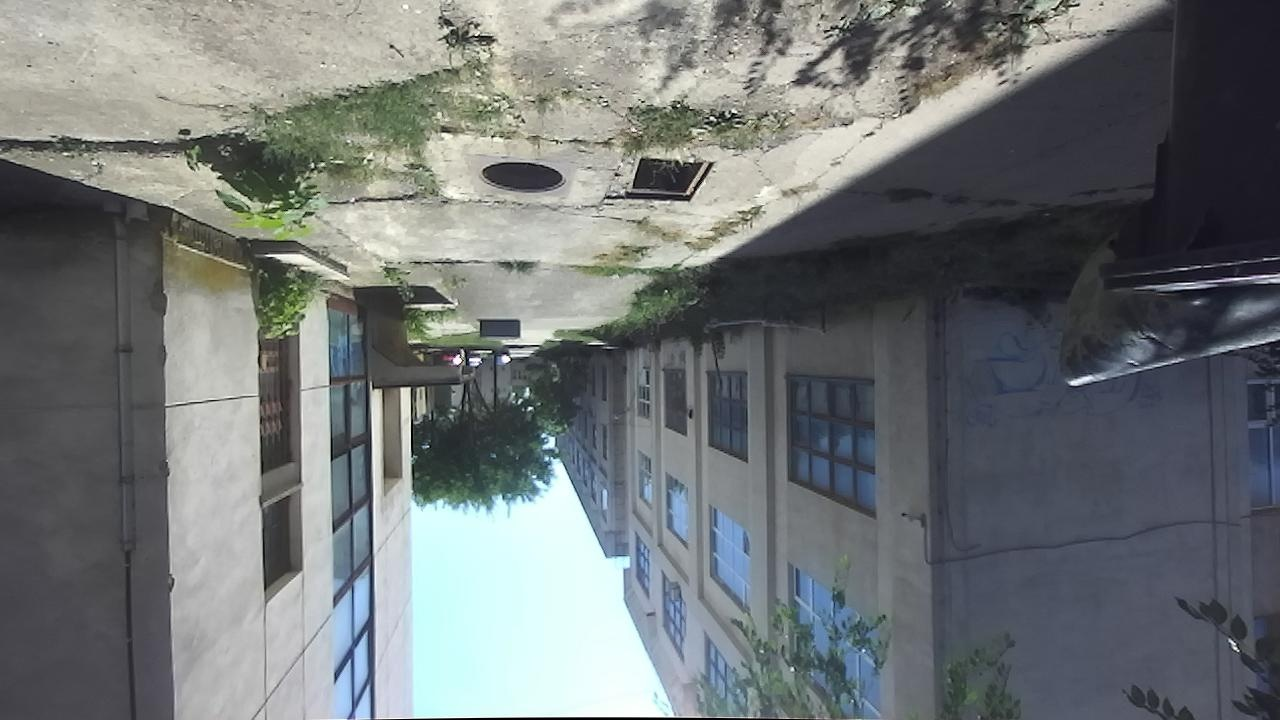drain: (621, 151, 722, 207), (470, 160, 571, 198)
